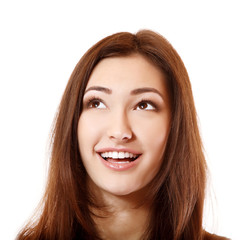teen: (69, 32, 183, 201)
